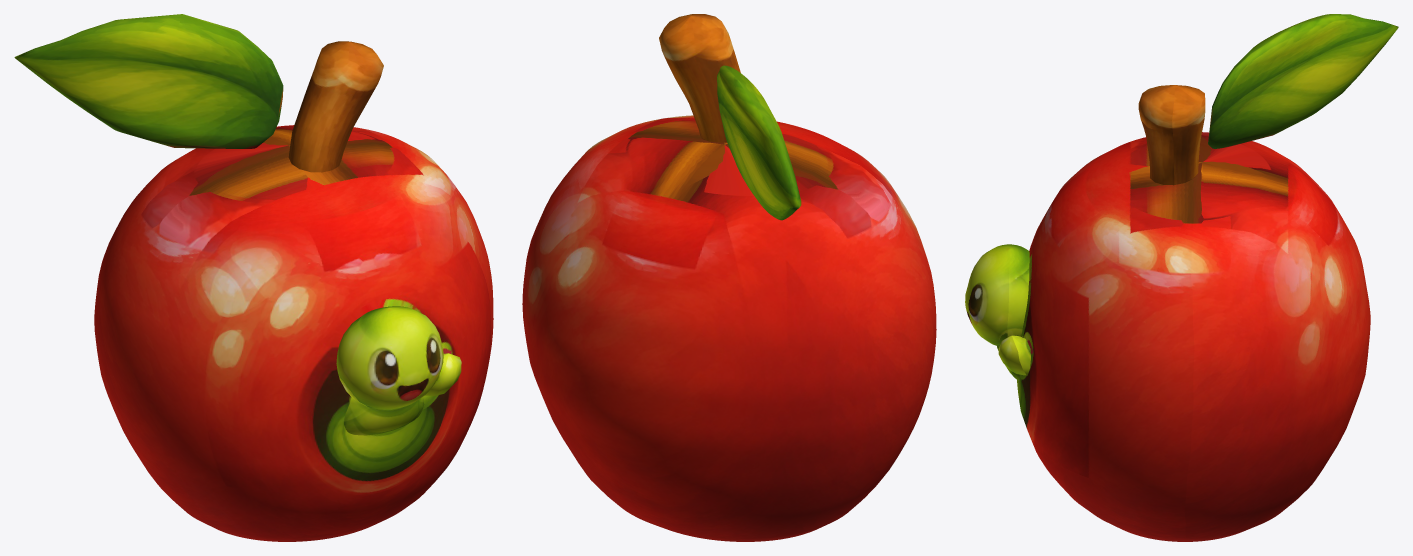
File: wormapple.glb
The picture shows the model from 3 angles, left to right: view 1: azimuth 30°, elevation 25°; view 2: azimuth 150°, elevation 25°; view 3: azimuth 270°, elevation 25°; orthographic projection. The views are drawn at different scales.
Parts seen in each view (by area): view 1: wormapple; view 2: wormapple; view 3: wormapple.
Part boxes in pixels (x1=…): wormapple: x1=14, y1=14, x2=493, y2=541; wormapple: x1=522, y1=14, x2=936, y2=541; wormapple: x1=965, y1=14, x2=1398, y2=541.
Size of the model in its own units: 0.3503 by 0.4471 by 0.385.
Materials: 1 (1 with a texture image).
